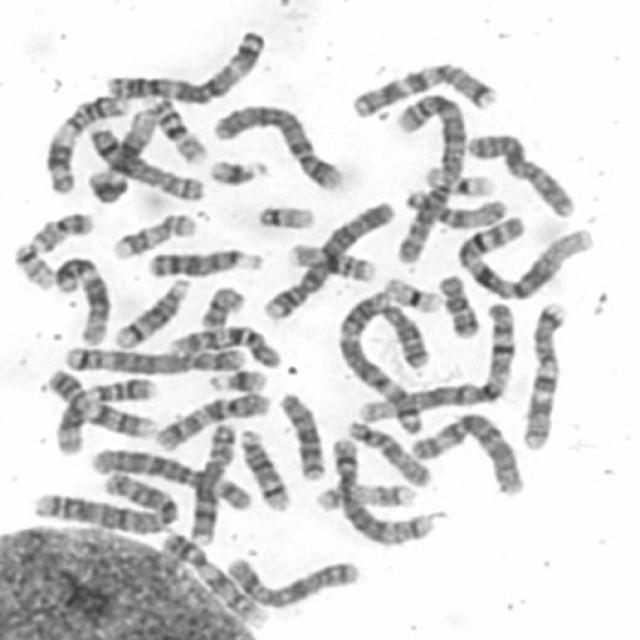A1: (350, 302, 519, 428), (451, 212, 596, 302)
A2: (388, 90, 466, 267), (27, 470, 178, 535)
A3: (336, 286, 428, 434), (101, 24, 269, 104)
B4: (258, 198, 396, 322), (208, 98, 346, 192)
B5: (328, 434, 435, 546), (60, 342, 248, 376)
C10: (150, 388, 272, 453), (165, 321, 284, 370)
C11: (40, 91, 131, 195), (53, 374, 158, 456)
C12: (85, 105, 163, 209), (50, 253, 110, 347)
C6: (85, 443, 254, 512), (406, 408, 527, 498)
C7: (346, 59, 499, 119), (516, 300, 568, 452)
C8: (87, 124, 206, 202), (186, 420, 238, 544)
C9: (156, 528, 268, 630), (42, 368, 154, 439)
D13: (274, 389, 326, 482), (144, 243, 262, 280)
D14: (110, 274, 191, 349), (236, 426, 292, 512)
D15: (343, 417, 433, 488), (401, 187, 506, 230)
E16: (138, 92, 208, 167), (283, 238, 376, 284)
E17: (108, 209, 199, 261), (311, 478, 418, 512)
E18: (378, 304, 432, 370), (435, 269, 480, 340)
F19: (421, 163, 497, 198), (381, 274, 443, 315)
F20: (28, 209, 96, 254), (196, 282, 248, 330)
G21: (206, 153, 269, 189), (204, 365, 268, 393)
G22: (12, 238, 56, 290), (253, 201, 317, 230)
X: (465, 129, 577, 218), (221, 553, 361, 609)
